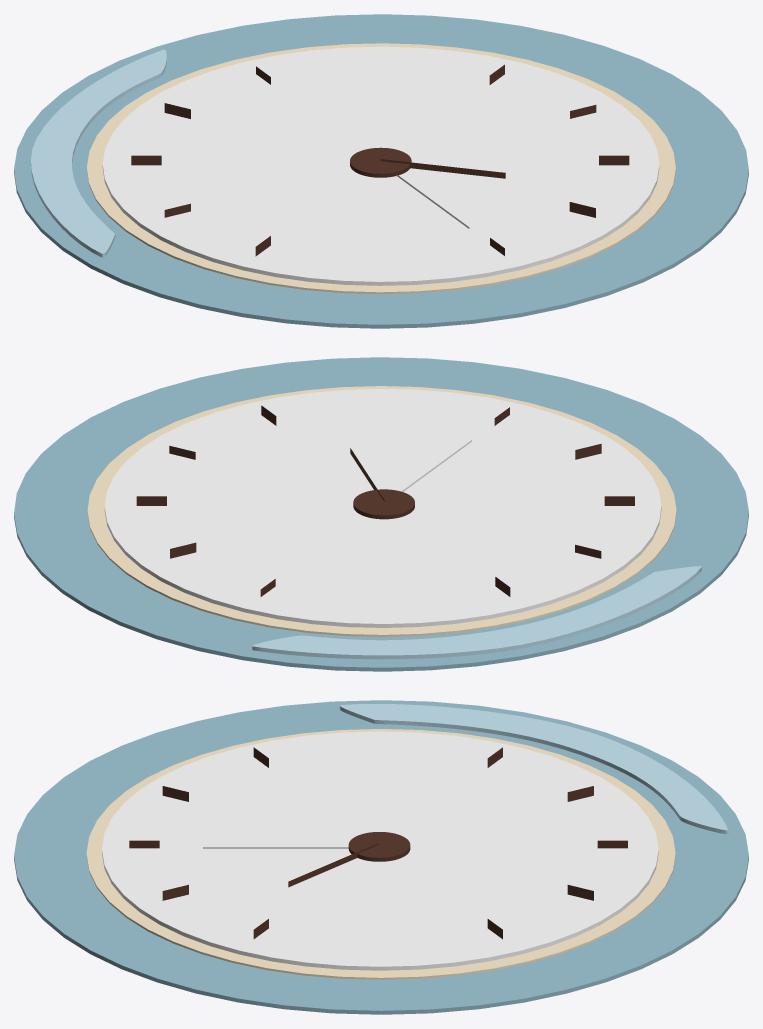
Rendered from emoji_u1f55f.glb.
3 renders of one model, top to bottom at view 1: azimuth 30°, elevation 25°; view 2: azimuth 150°, elevation 25°; view 3: azimuth 270°, elevation 25°, orthographic.
Parts seen in each view (by area): view 1: emoji_u1f55f; view 2: emoji_u1f55f; view 3: emoji_u1f55f.
Part boxes in pixels (bbox=[...]): emoji_u1f55f: bbox=[14, 14, 748, 328]; emoji_u1f55f: bbox=[14, 357, 748, 671]; emoji_u1f55f: bbox=[14, 700, 748, 1014].
Size of the model in its own units: 0.0339 by 0.0018 by 0.0339.
